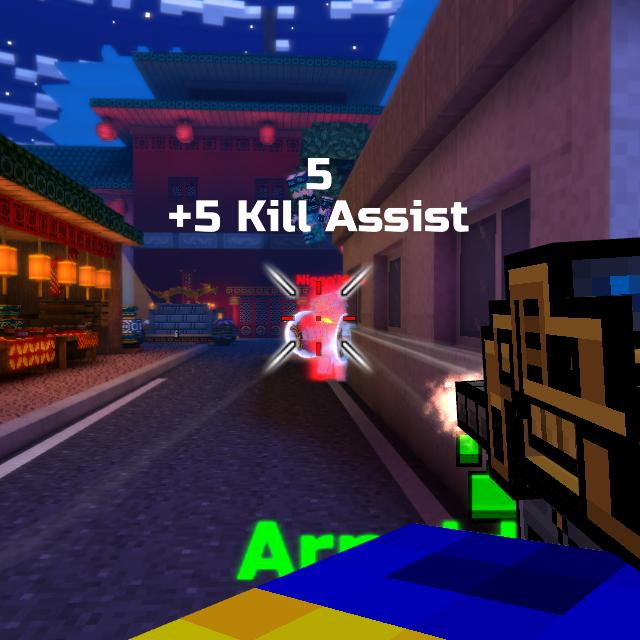Enemy: (298, 296, 342, 381)
